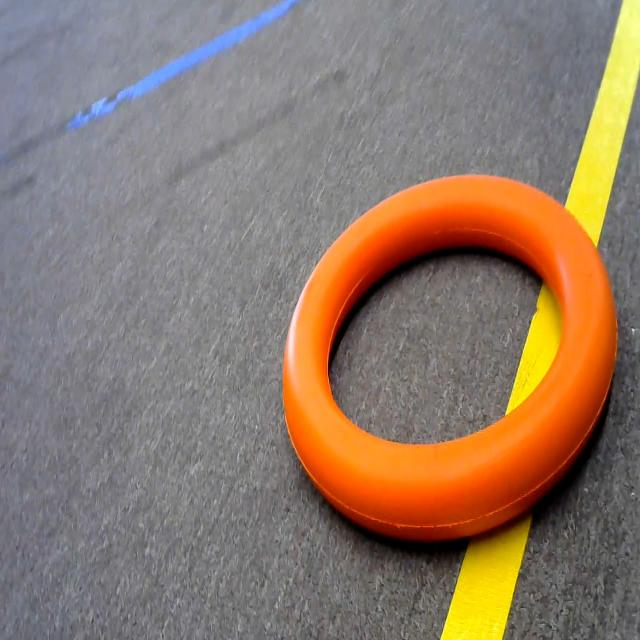note: (275, 166, 616, 554)
